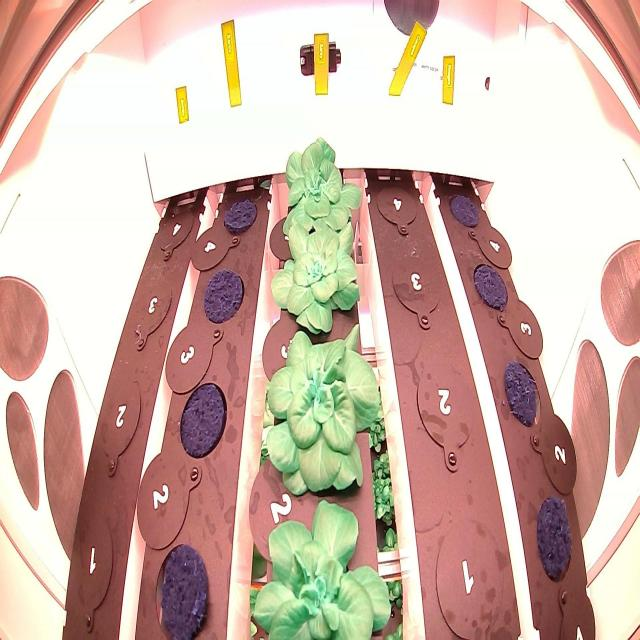empty_pod: (428, 509, 514, 639), (406, 352, 482, 479), (89, 366, 149, 485), (67, 505, 119, 633), (389, 242, 447, 336), (126, 264, 179, 356), (374, 171, 426, 240), (152, 198, 198, 264)
pod: (149, 541, 212, 640), (177, 372, 233, 464), (532, 487, 580, 587), (500, 350, 547, 437), (198, 264, 248, 333), (218, 186, 262, 243), (471, 260, 511, 317), (448, 187, 481, 227)
young: (262, 317, 382, 496), (249, 493, 395, 640), (267, 217, 366, 342), (276, 131, 365, 245)
